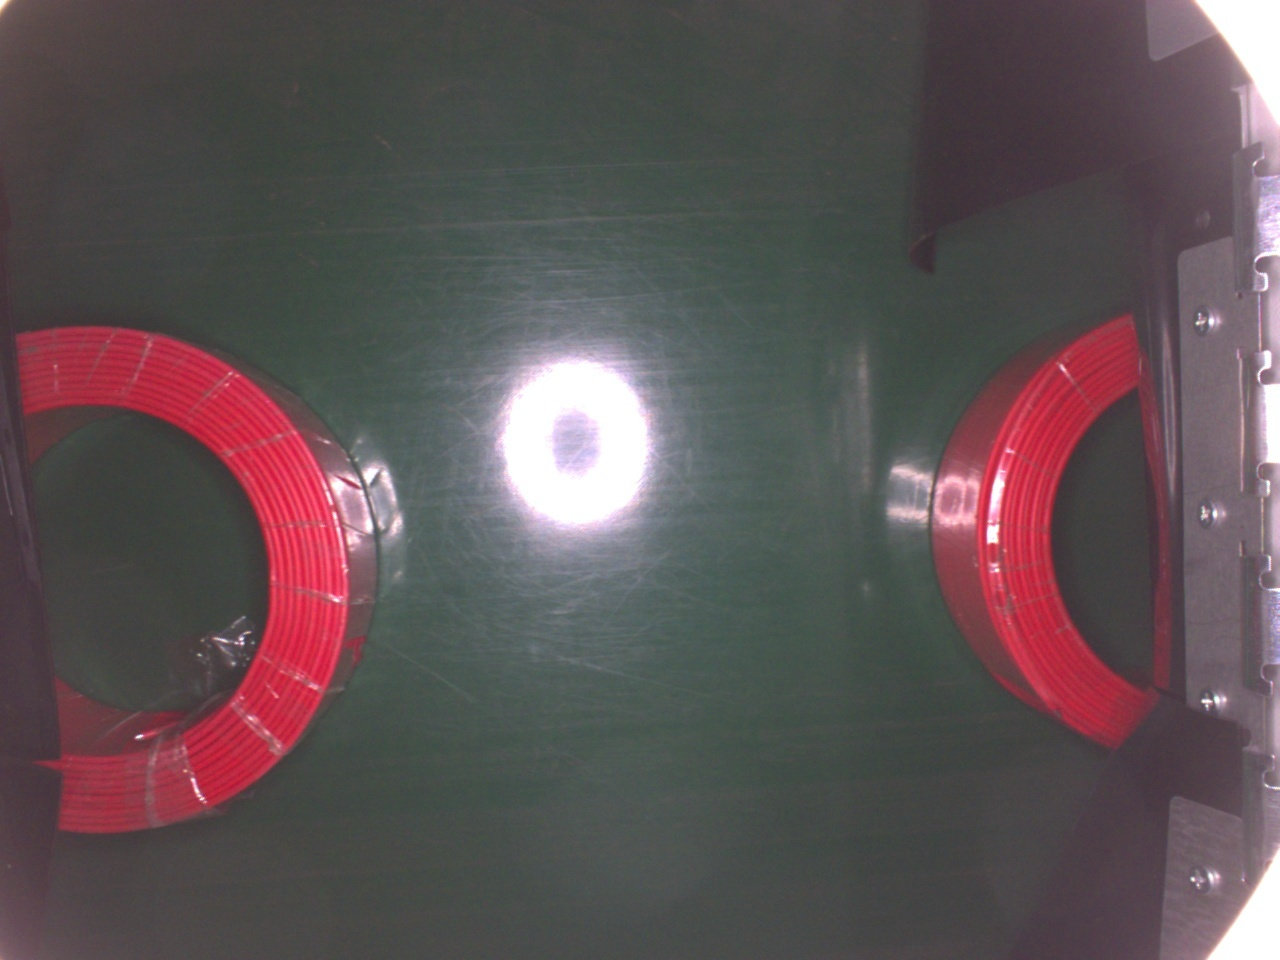red: (16, 322, 376, 837), (927, 308, 1176, 756)
